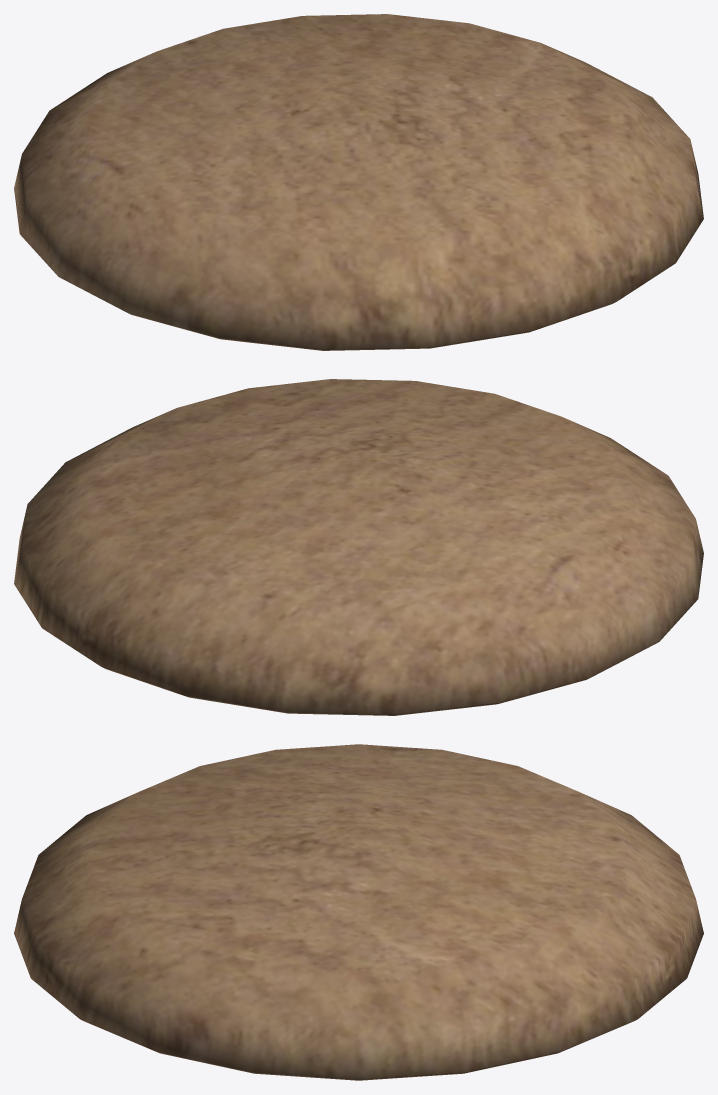
File: lid1.obj
The picture shows the model from 3 angles, top to bottom: view 1: azimuth 30°, elevation 25°; view 2: azimuth 150°, elevation 25°; view 3: azimuth 270°, elevation 25°; orthographic projection.
Visible parts, largest first — view 1: go_bowl_top_LOD2_Mesh.004; view 2: go_bowl_top_LOD2_Mesh.004; view 3: go_bowl_top_LOD2_Mesh.004.
Boxes of the visible parts, left/top/right/bottom form: go_bowl_top_LOD2_Mesh.004: left=14, top=14, right=703, bottom=350; go_bowl_top_LOD2_Mesh.004: left=14, top=379, right=703, bottom=715; go_bowl_top_LOD2_Mesh.004: left=14, top=744, right=703, bottom=1080.
Size of the model in its own units: 0.1251 by 0.025 by 0.1251.
